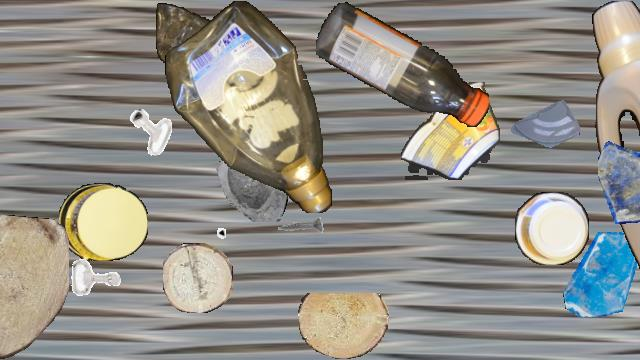glass: (201, 132, 291, 222), (561, 232, 640, 316), (511, 93, 579, 161), (598, 130, 640, 224)
metal: (65, 247, 127, 309), (273, 204, 325, 256), (176, 199, 226, 249), (127, 107, 175, 155)
plastic: (165, 1, 333, 213), (316, 1, 488, 129), (590, 1, 640, 357), (401, 82, 499, 180), (59, 183, 147, 261), (515, 192, 589, 264), (156, 1, 230, 71)
wood: (0, 215, 69, 359), (298, 293, 388, 359), (163, 243, 233, 313)
